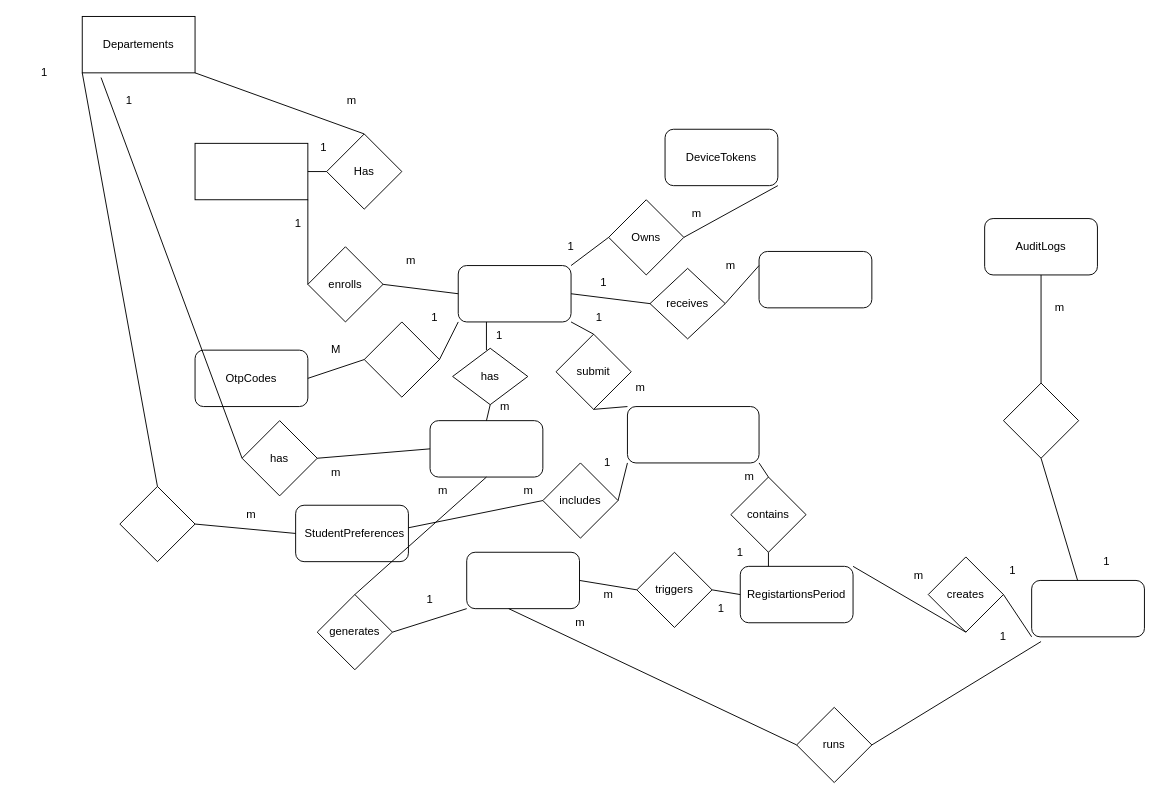
The diagram is 1161 pixels wide and 799 high, and some of its shapes have lost their labels. Each missing label, with the centre of its shape:
"AdminUsers" goes at point 1087,608.
"AllocationResults" goes at point 486,448.
"AllocationRounds" goes at point 523,580.
"apperars in" goes at point 157,524.
"Collages" goes at point 251,171.
"Notifications" goes at point 815,279.
"performes" goes at point 1041,420.
"preferencesSubmission" goes at point 693,434.
"recieves" goes at point 401,359.
"Students" goes at point 514,293.
